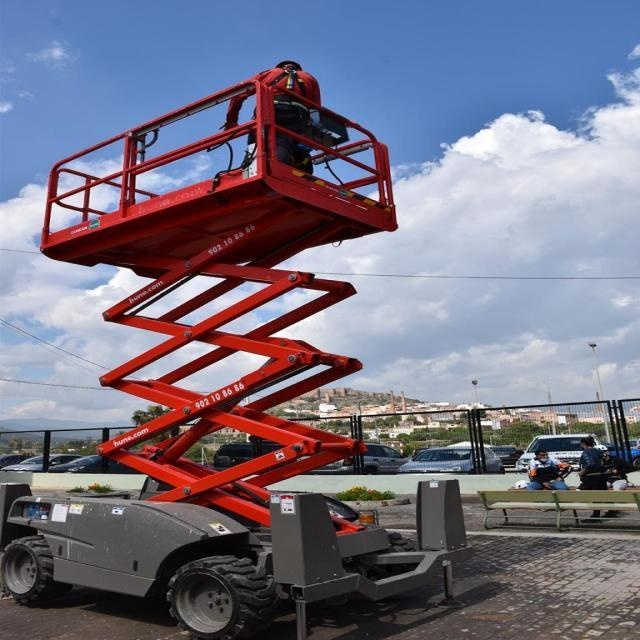Arnes_seguridad: (262, 65, 310, 124)
